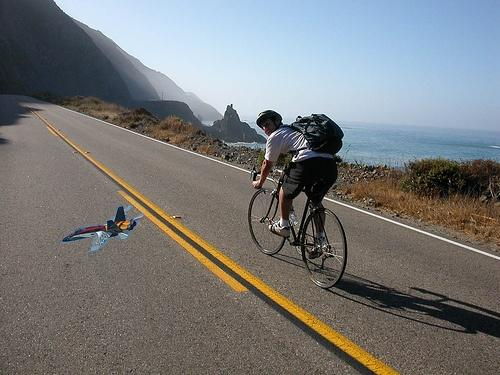tampered: (63, 206, 143, 253)
